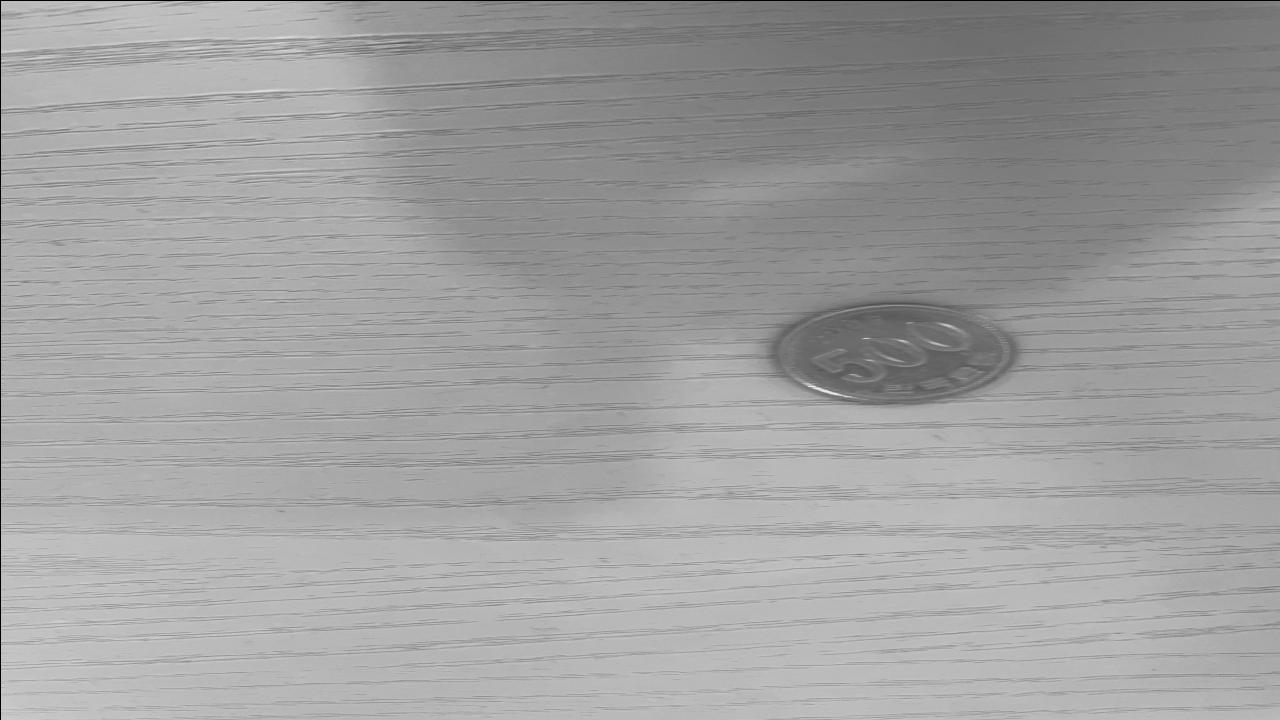coin: (758, 298, 1030, 406)
